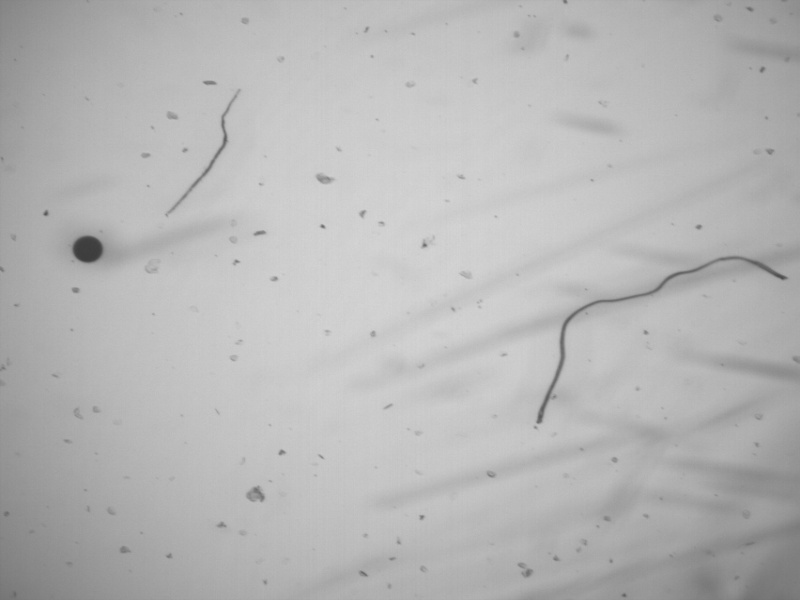bead: (71, 233, 106, 265)
fiber: (534, 254, 790, 428), (163, 87, 245, 218)
